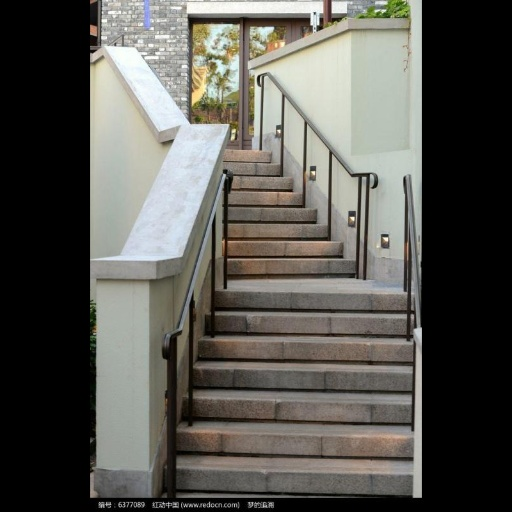Stairs: (178, 152, 412, 496)
